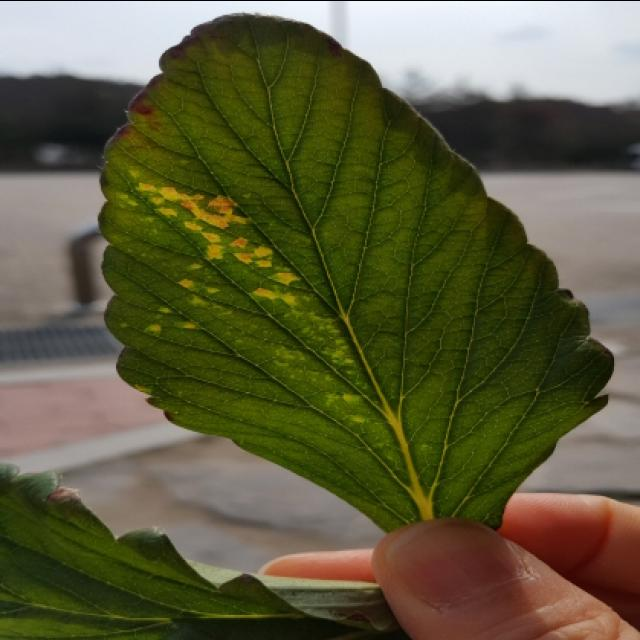Angular Leafspot: (115, 167, 379, 441)
